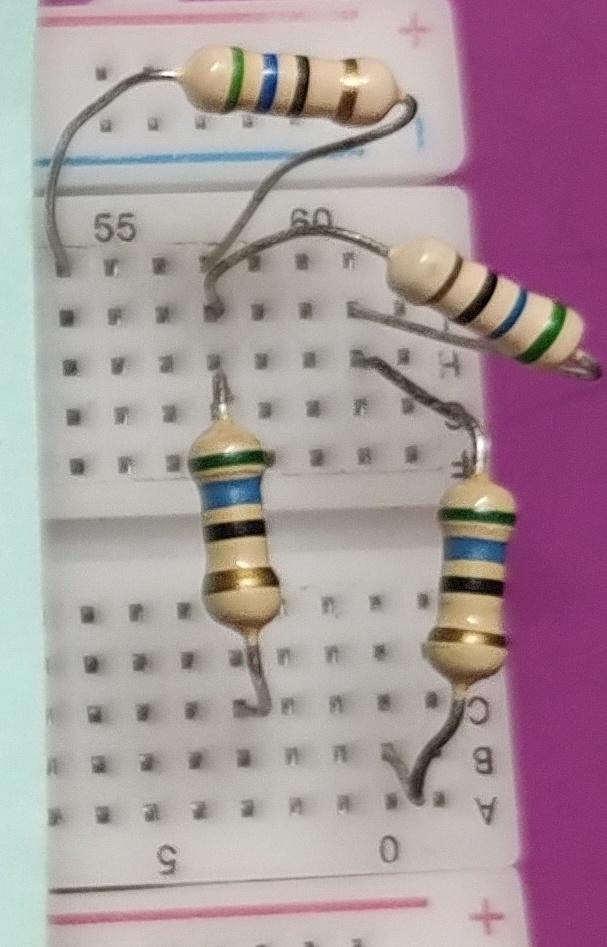resistor: (165, 401, 303, 652), (375, 227, 594, 379), (427, 459, 543, 697), (175, 33, 414, 147)
